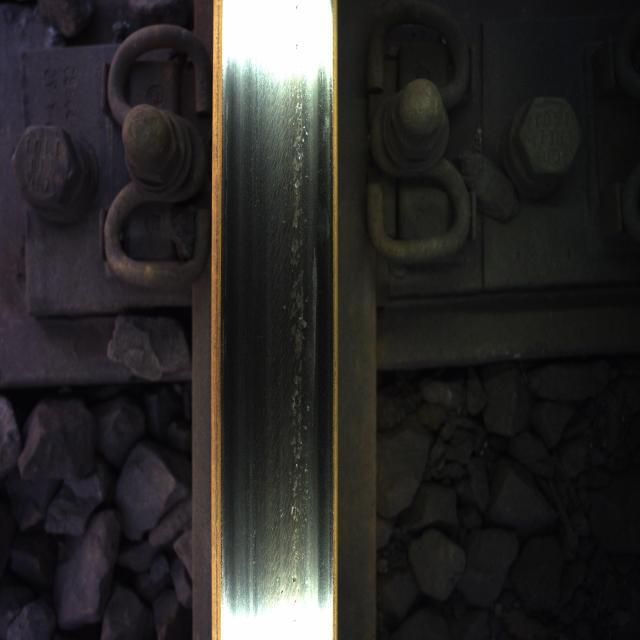scar: (265, 58, 315, 598)
